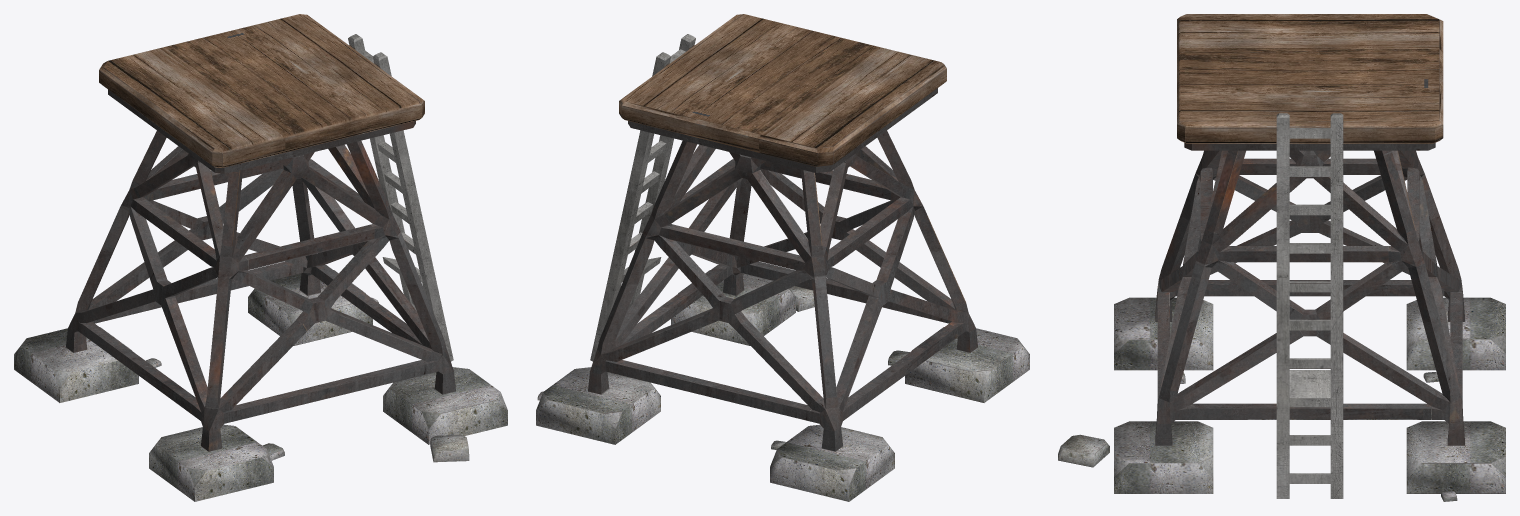
File: tower v1.fbx
The picture shows the model from 3 angles, left to right: view 1: azimuth 30°, elevation 25°; view 2: azimuth 150°, elevation 25°; view 3: azimuth 270°, elevation 25°; orthographic projection. The views are drawn at different scales.
Visible parts, largest first — view 1: tower v1; view 2: tower v1; view 3: tower v1.
Boxes of the visible parts, box(x1,y1,x2,y2) form: tower v1: box(14, 14, 507, 501); tower v1: box(536, 14, 1029, 501); tower v1: box(1058, 14, 1505, 501).
Size of the model in its own units: 5.72 by 5.32 by 6.09.
